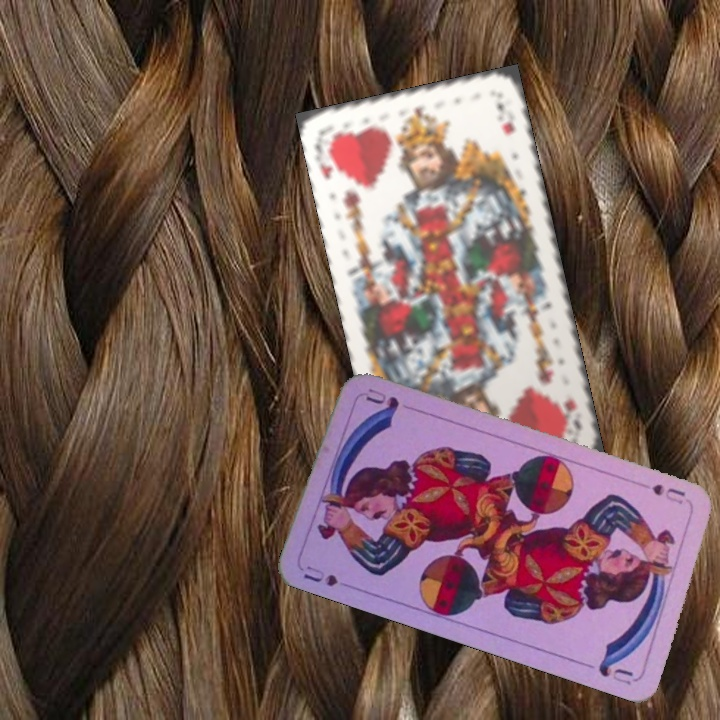HK: (311, 131, 343, 181), (558, 394, 584, 434)
SU: (299, 560, 341, 589), (647, 480, 688, 508)
